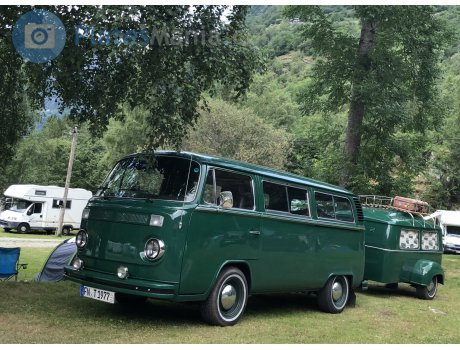License Plates: (82, 285, 113, 298)
